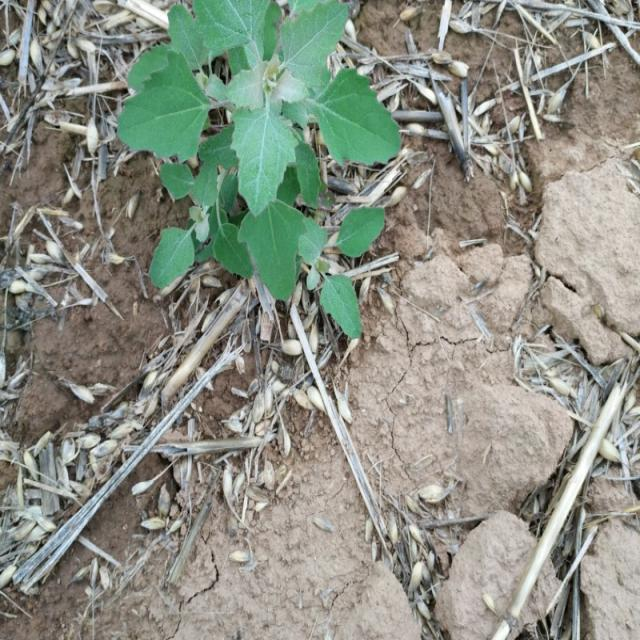goosefoots: (122, 0, 410, 339)
